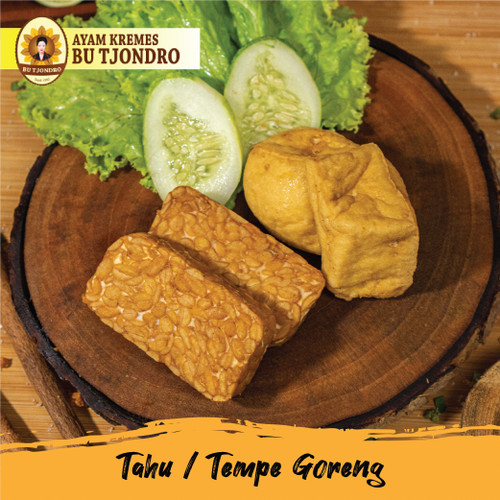Tempe: (70, 254, 295, 377), (152, 209, 313, 339)
